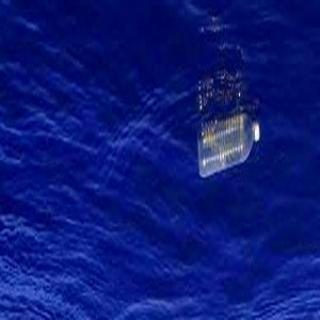Plastic: (198, 114, 261, 180)
